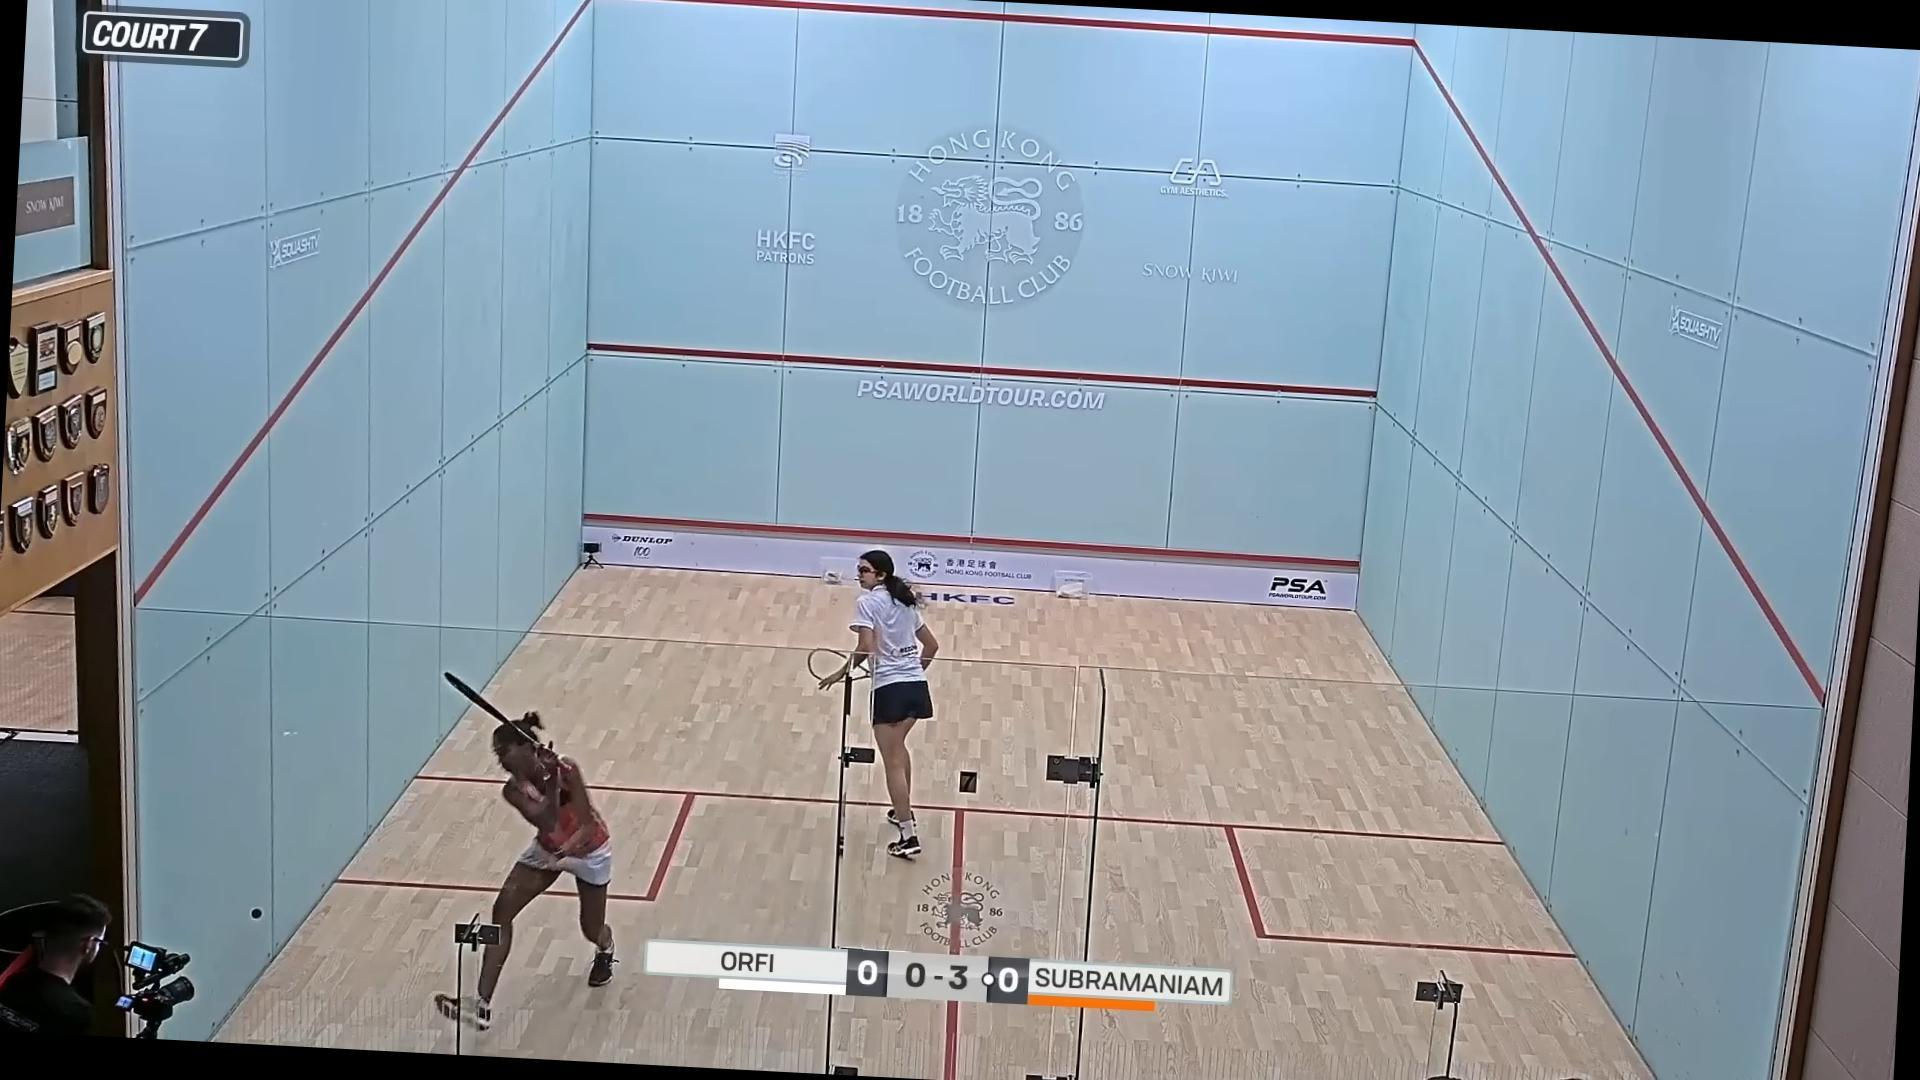Squash-Ball: (241, 899, 270, 930)
